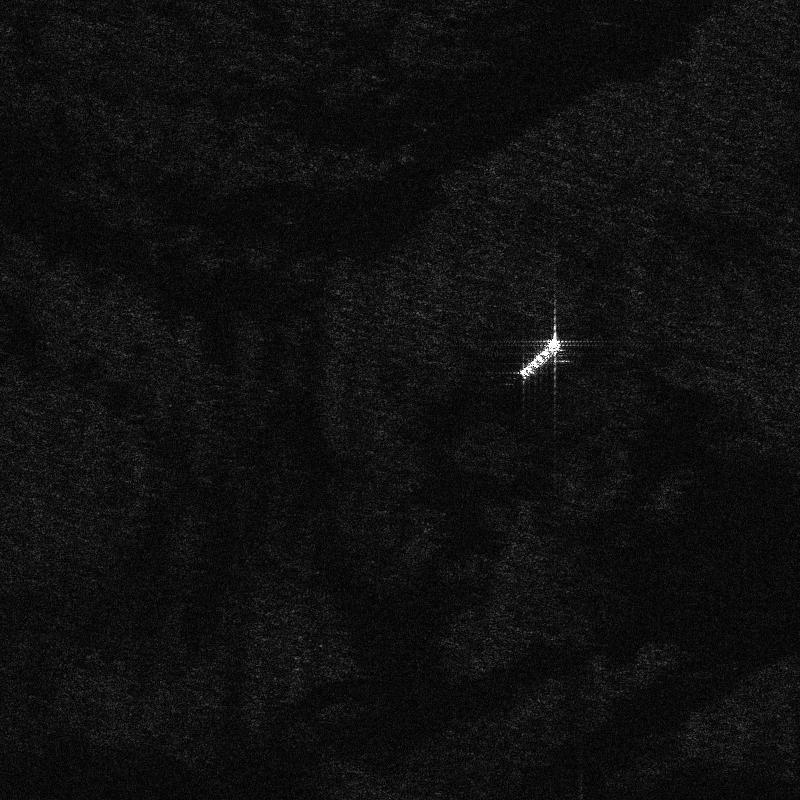ship: (520, 338, 561, 378)
